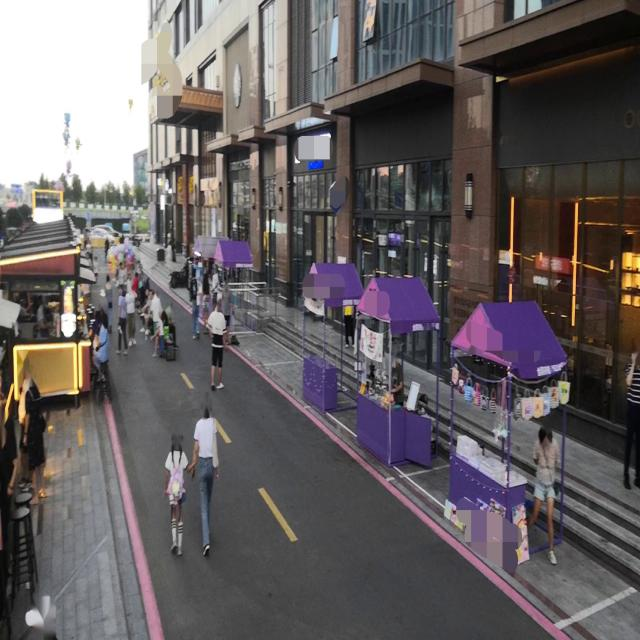fixed_stall: (443, 362, 531, 567), (356, 320, 396, 409), (529, 369, 571, 419)
sunshade: (449, 297, 568, 380), (358, 276, 441, 335), (302, 258, 366, 305), (212, 238, 252, 268), (193, 235, 229, 258)
